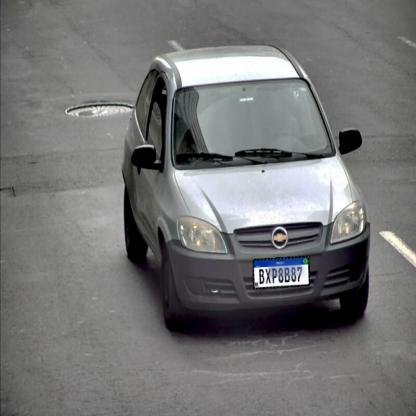PlacaM: (253, 256, 310, 289)
